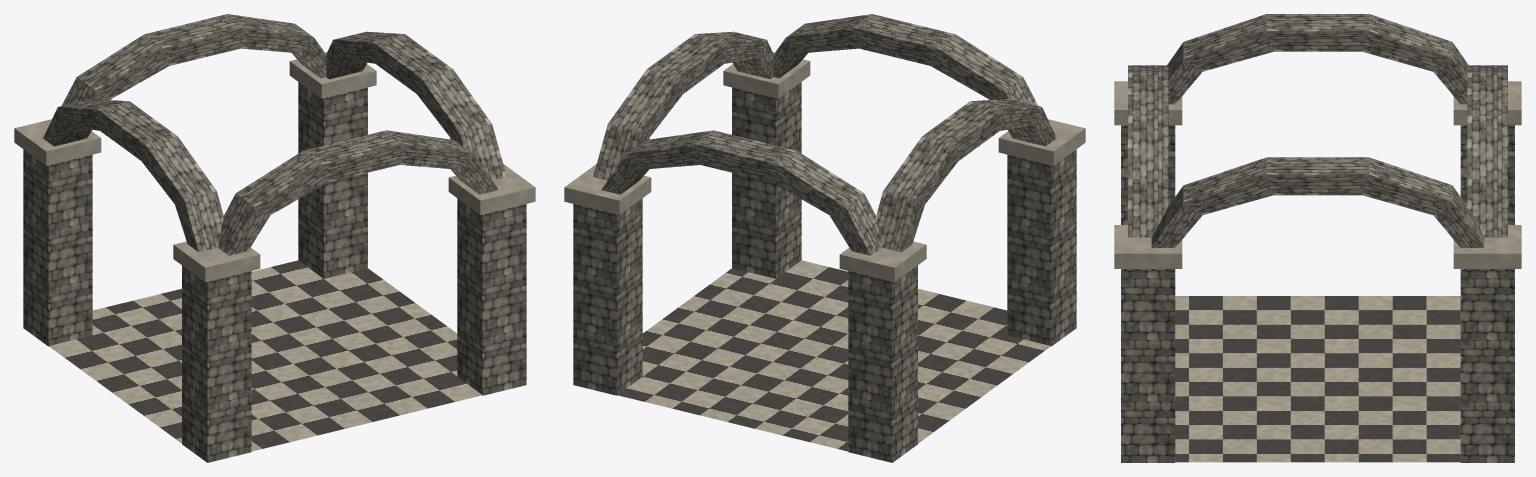
File: Vault_Dwarf_1_LOD2.gltf
The picture shows the model from 3 angles, left to right: view 1: azimuth 30°, elevation 25°; view 2: azimuth 150°, elevation 25°; view 3: azimuth 270°, elevation 25°; orthographic projection. The views are drawn at different scales.
Visible parts, largest first — view 1: Vault_Dwarf_1_LOD2; view 2: Vault_Dwarf_1_LOD2; view 3: Vault_Dwarf_1_LOD2.
Part boxes in pixels (bbox=[...]): Vault_Dwarf_1_LOD2: bbox=[14, 14, 535, 462]; Vault_Dwarf_1_LOD2: bbox=[564, 14, 1085, 462]; Vault_Dwarf_1_LOD2: bbox=[1114, 14, 1521, 462].
Bounding box in the file's own units: 6 × 4.64 × 6.
3 materials, 3 textured.
